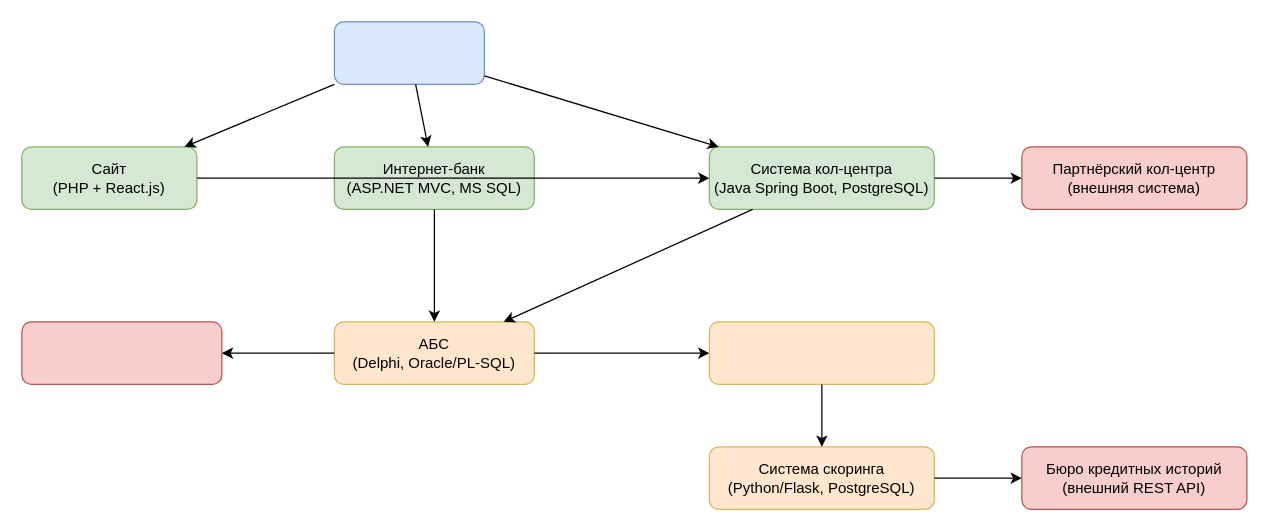
Image size: 1269x531. Some labels were removed from this diagram. Here are the shapes that lost their labels. From the top down, the box of each, then its label:
(333, 21, 484, 84): Клиент
(21, 321, 222, 384): СМС-шлюз телеком-оператора
(708, 321, 934, 384): Кредитный конвейер (Camunda, Oracle)
